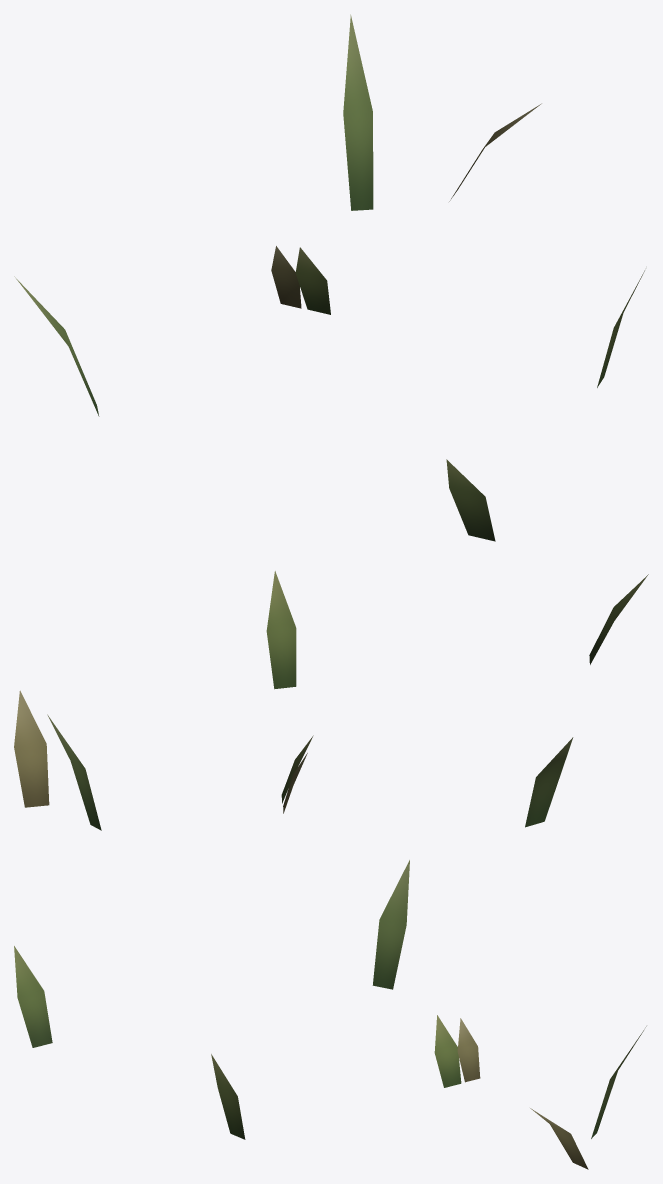
The model's file is meadow_low_far.gltf.
3 views of the same model, one above another, from view 1: azimuth 30°, elevation 25°; view 2: azimuth 150°, elevation 25°; view 3: azimuth 270°, elevation 25° (orthographic). The views are drawn at different scales.
Visible parts, largest first — view 1: meadow_low_far; view 2: meadow_low_far; view 3: meadow_low_far.
Part boxes in pixels (x1,y1,x2,y2): meadow_low_far: [14, 14, 644, 541]; meadow_low_far: [14, 571, 648, 830]; meadow_low_far: [14, 860, 646, 1169].
Bounding box in the file's own units: 0.8665 × 0.2219 × 1.04.
3 materials, 3 textured.
